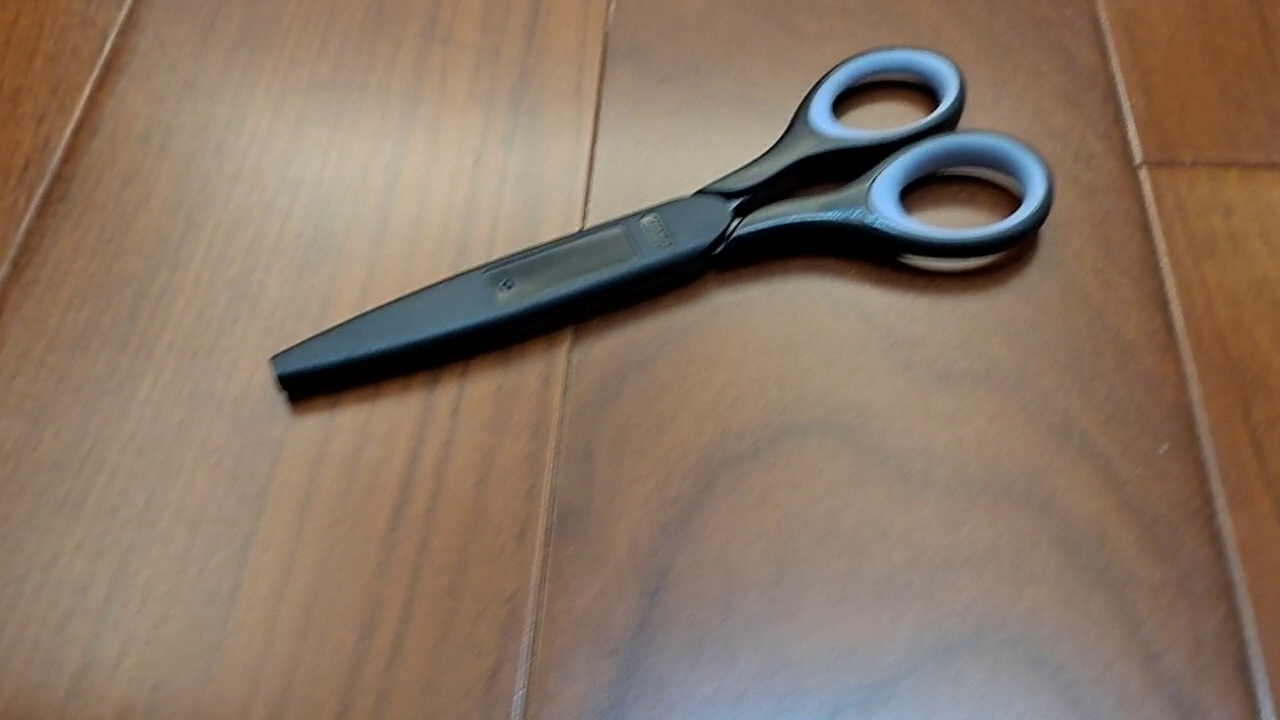scissors: (267, 44, 1056, 403)
